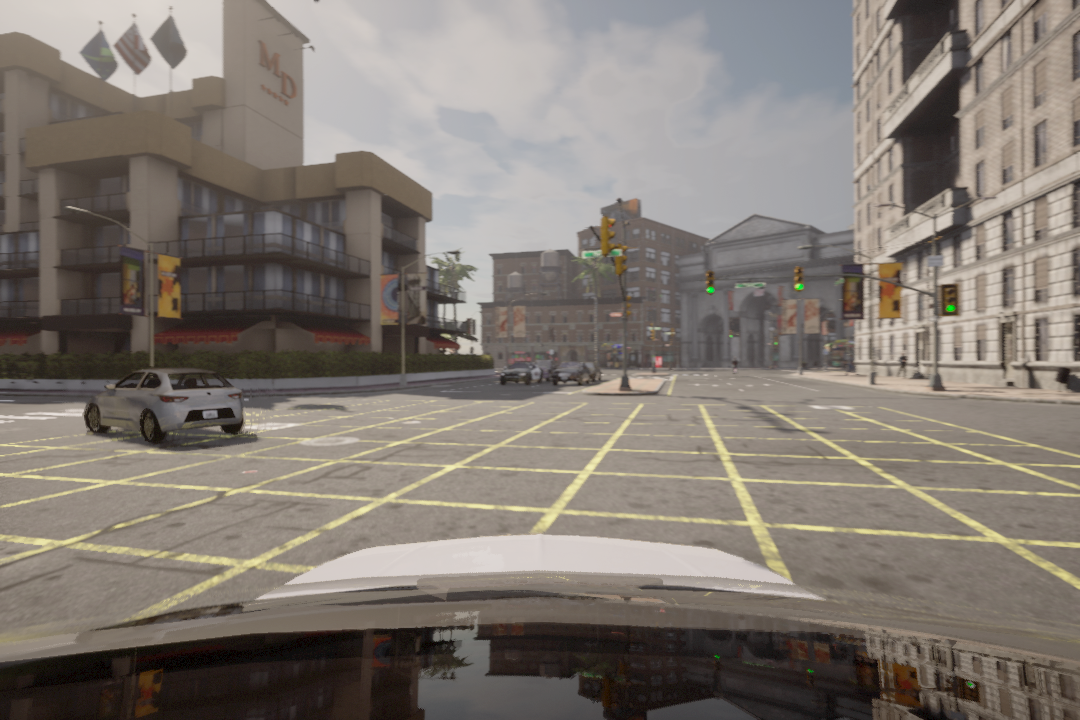TrafficLight: (944, 286, 957, 317), (704, 269, 717, 295), (794, 266, 806, 294)
